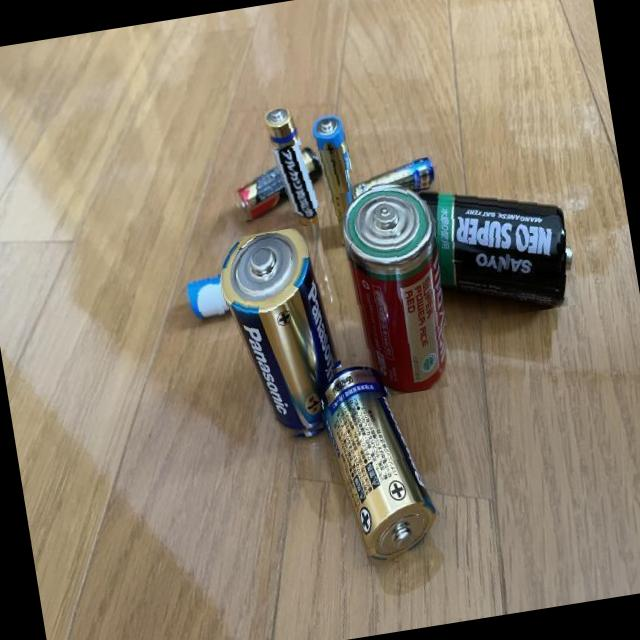Hazard: (212, 224, 352, 448), (316, 356, 448, 570), (407, 166, 580, 328), (334, 180, 461, 400), (224, 142, 326, 222), (306, 113, 364, 250), (262, 108, 320, 238), (345, 156, 442, 210), (174, 262, 248, 328)
